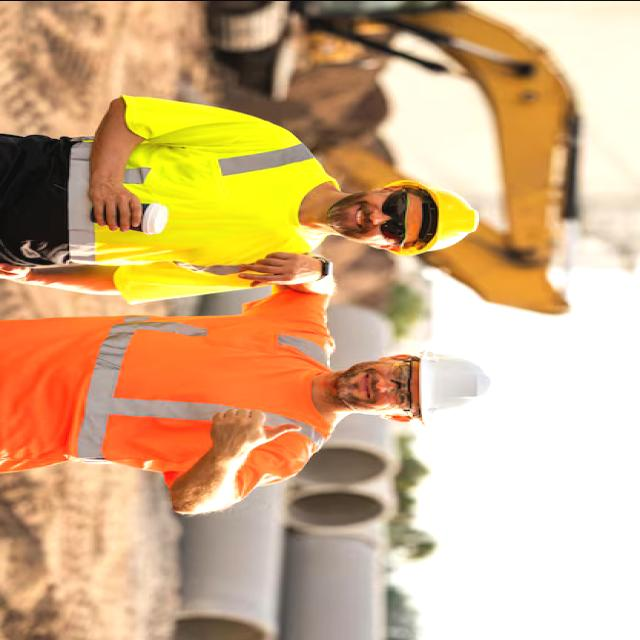Hard Hat: (378, 170, 486, 258), (408, 339, 498, 427)
Reflective Vest: (0, 90, 350, 306), (9, 312, 342, 500)
Safety Glasses: (385, 354, 419, 416), (378, 182, 406, 256)
